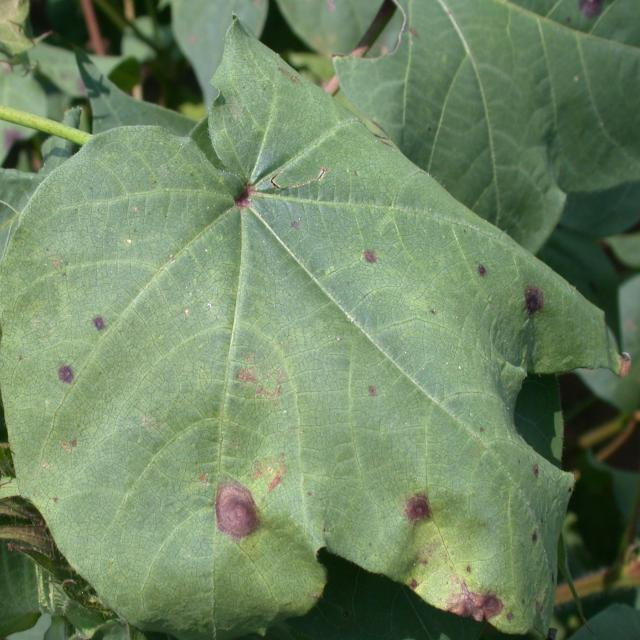Cotton Ball Rot: (211, 479, 263, 543), (400, 489, 435, 530), (519, 281, 546, 321)
Target Spot: (2, 15, 622, 637)
